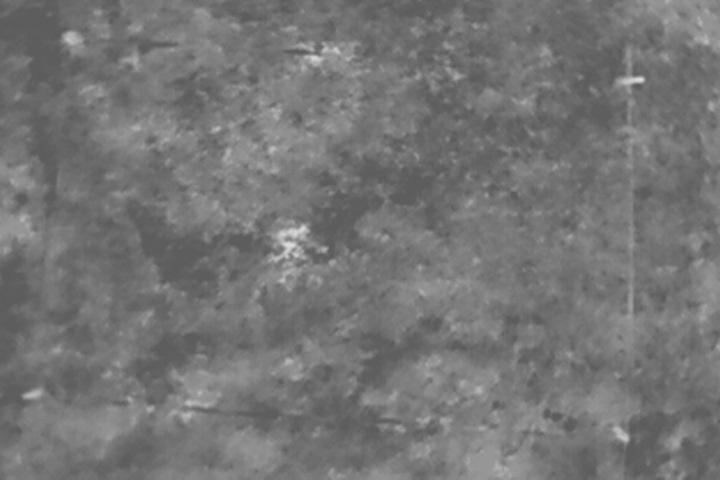landmine: (259, 214, 319, 273)
